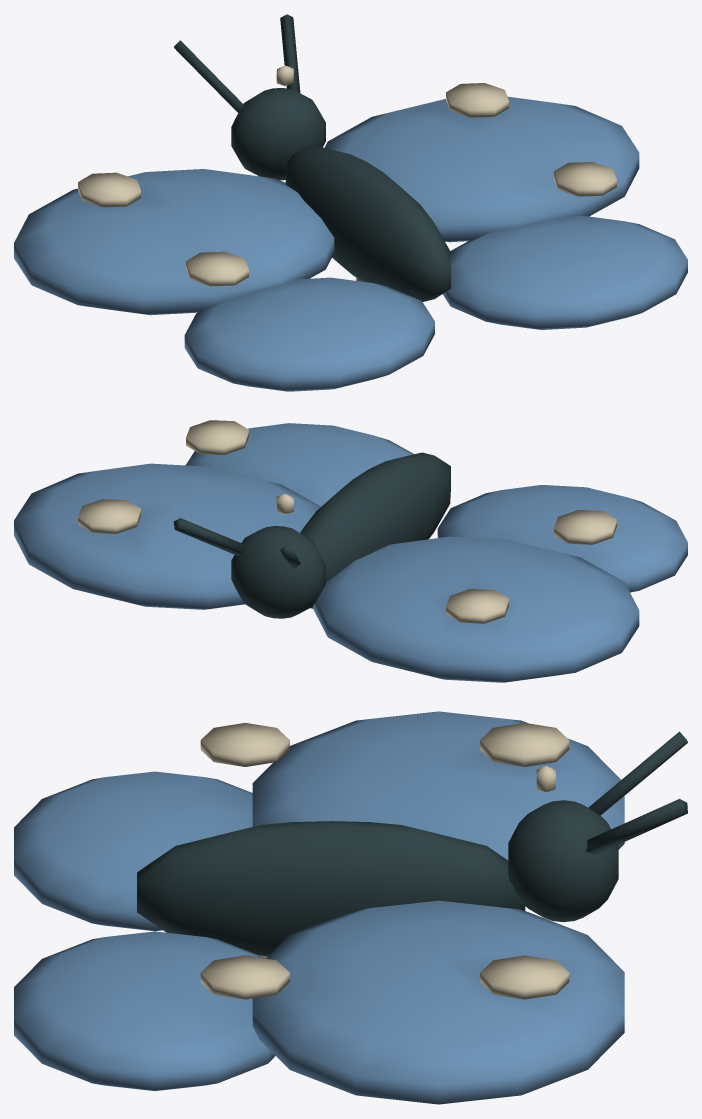
File: insect_butterfly_blue.glb
3 views of the same model, one above another, from view 1: azimuth 30°, elevation 25°; view 2: azimuth 150°, elevation 25°; view 3: azimuth 270°, elevation 25° (orthographic). The views are drawn at different scales.
Size of the model in its own units: 0.2054 by 0.0537 by 0.1568.
